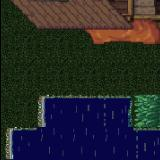Interaction: (51, 87, 139, 106), (16, 116, 52, 138), (0, 116, 17, 160), (124, 105, 140, 138), (34, 88, 52, 115), (140, 120, 160, 138)
Slow: (13, 132, 160, 160), (44, 100, 127, 132), (132, 94, 160, 128)
